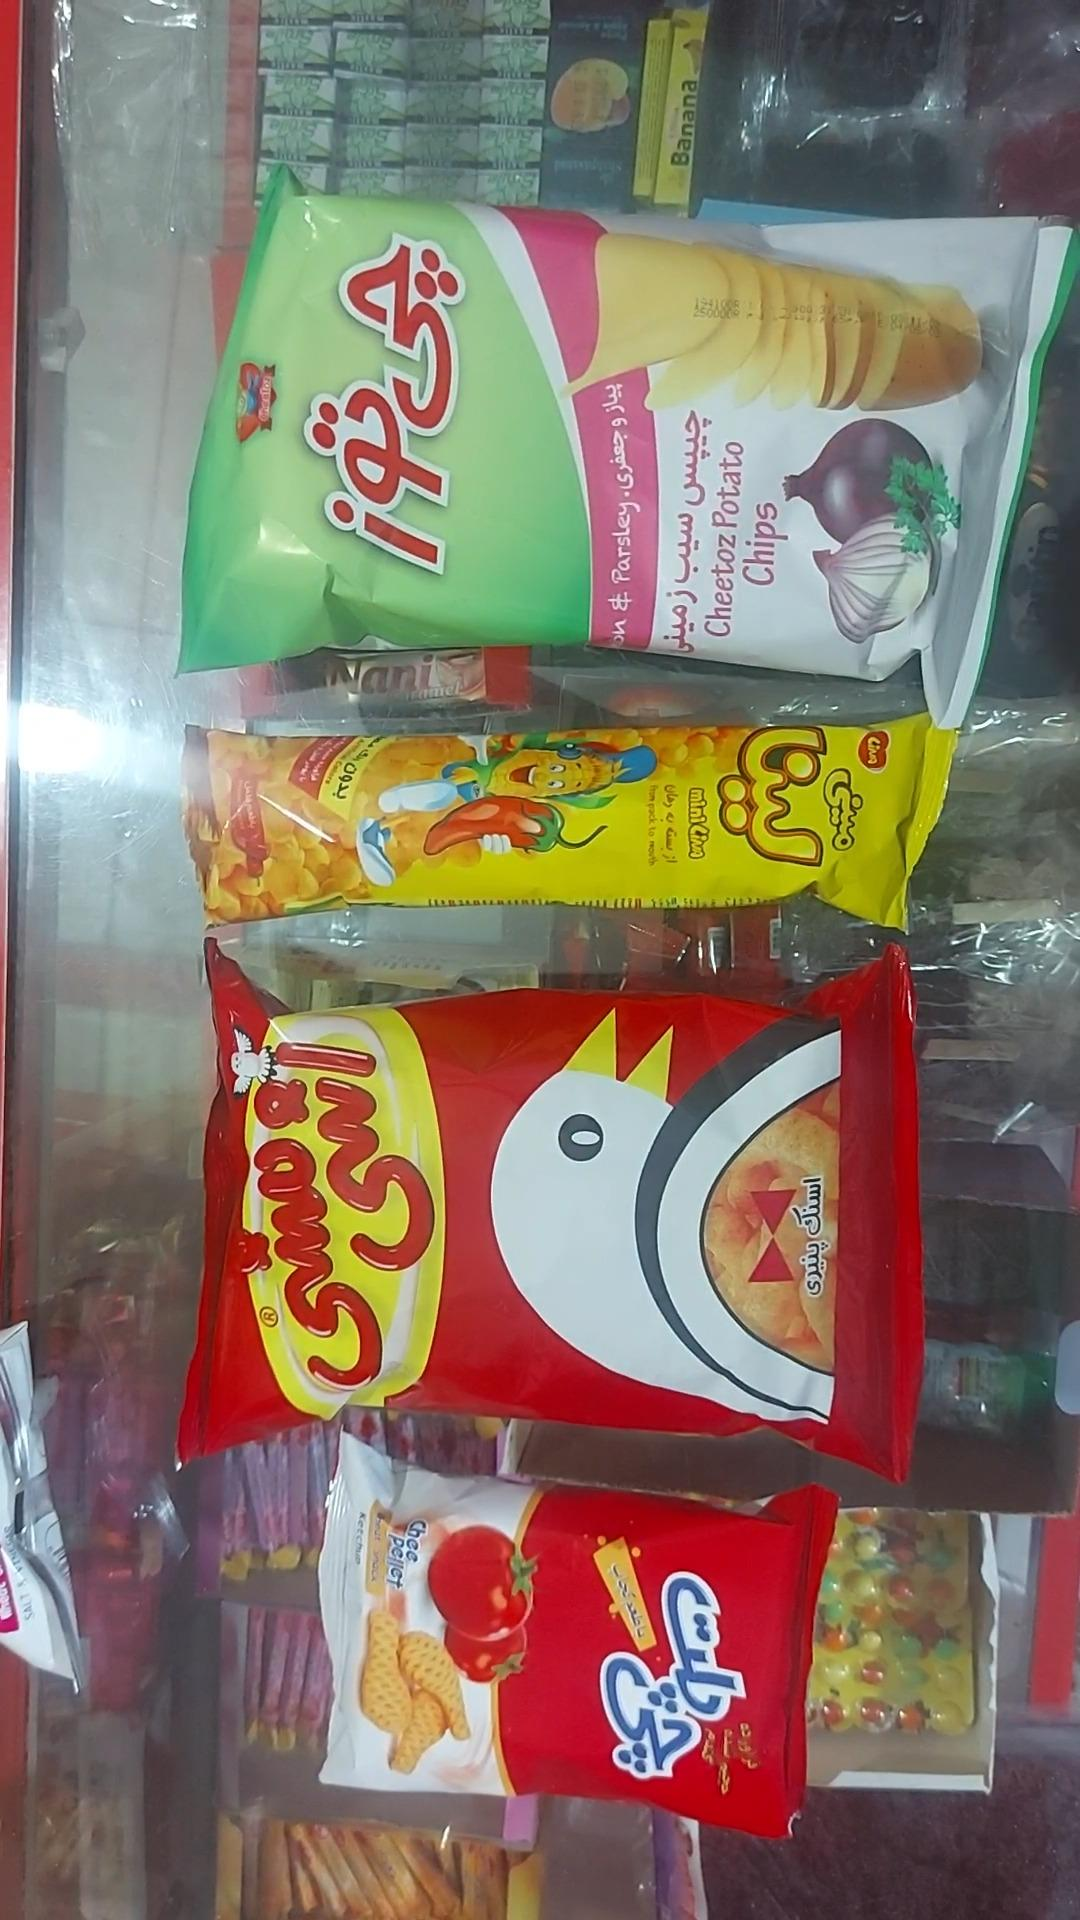Ashi Mashi snacks: (175, 939, 926, 1485)
Chee pellet ketchup: (316, 1433, 839, 1842)
Cheetoz onion and parsley chips: (179, 165, 1079, 735)
Mini Lina: (183, 717, 956, 935)
